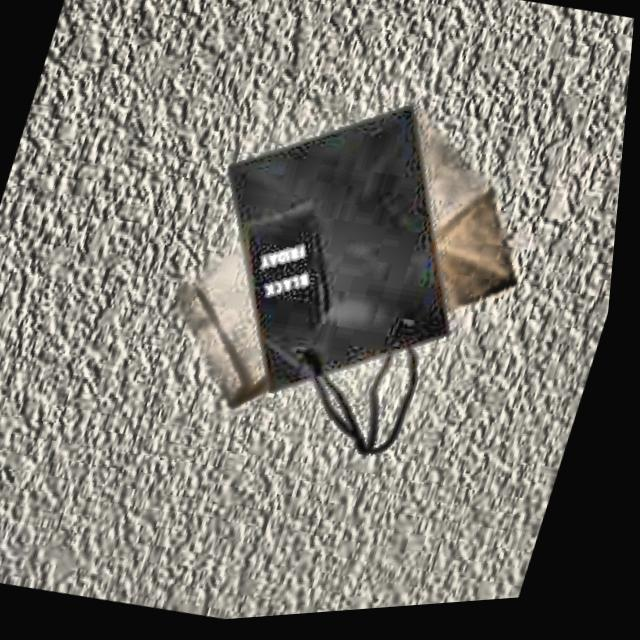Paper-bag: (150, 62, 570, 488), (153, 52, 532, 486)
